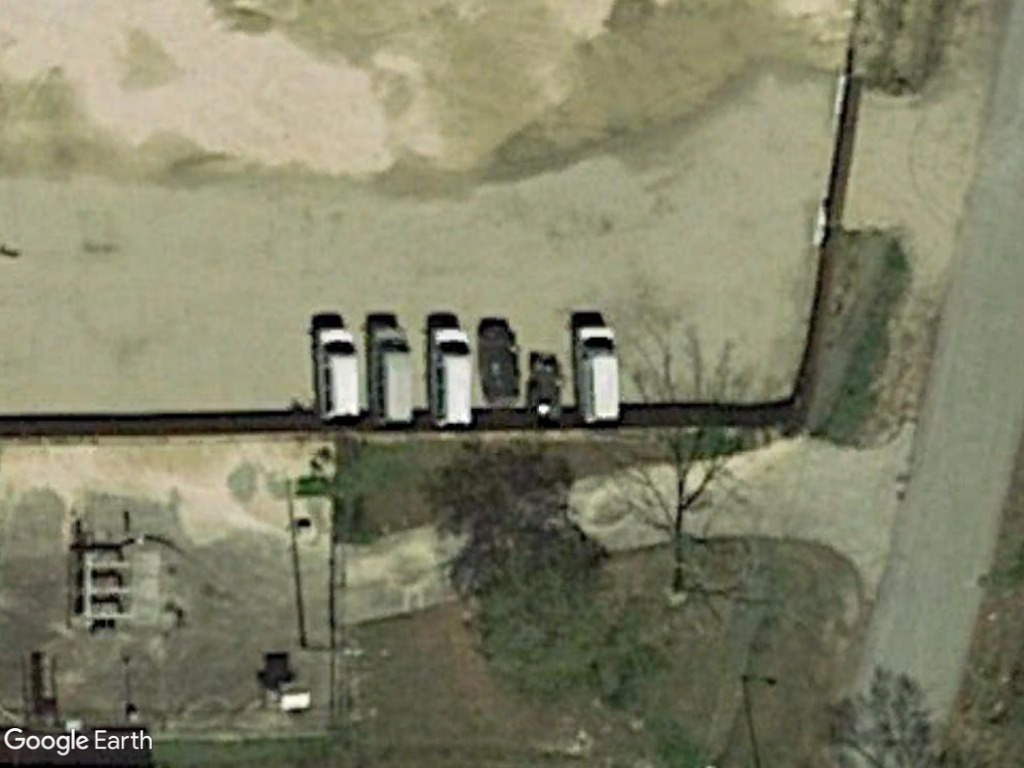van: (310, 319, 369, 429), (425, 317, 474, 437), (570, 321, 625, 427), (364, 320, 416, 429)
